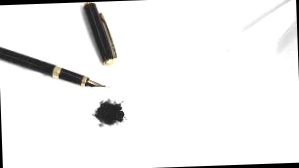ink: (94, 99, 126, 124)
